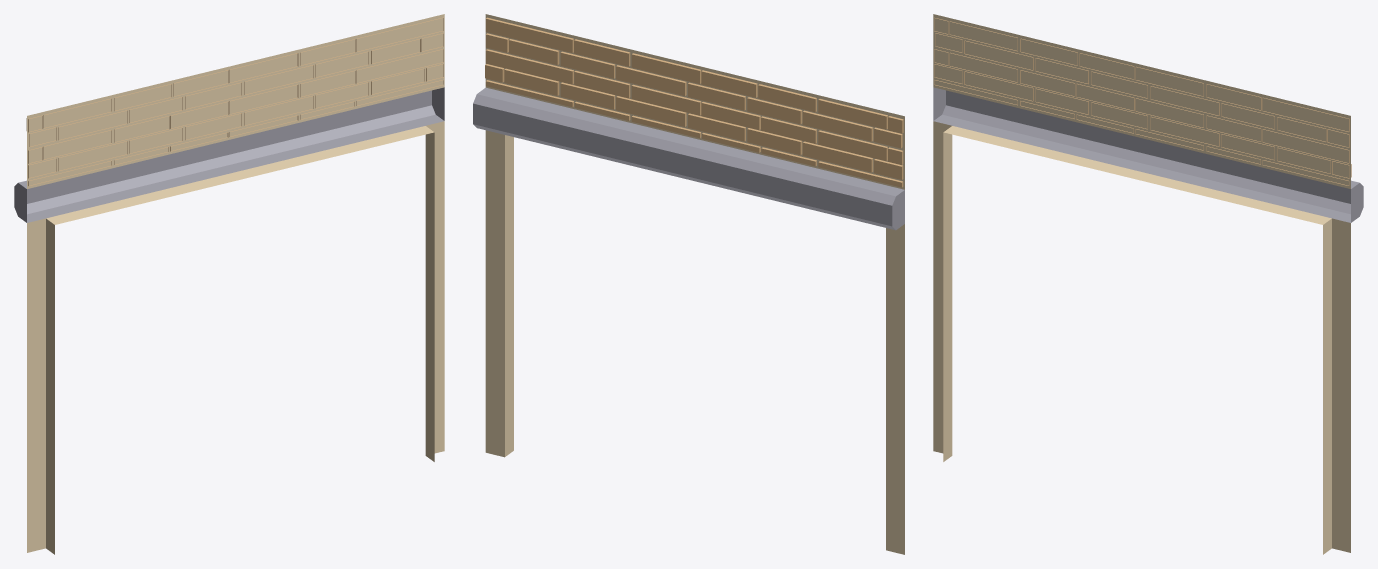
Rendered from BaksteenBergingsDeurframe01_LOD0.fbx.
3 renders of one model, left to right at view 1: azimuth 30°, elevation 25°; view 2: azimuth 150°, elevation 25°; view 3: azimuth 330°, elevation 25°, orthographic.
Parts seen in each view (by area): view 1: BaksteenBergingsDeurframe01_LOD0; view 2: BaksteenBergingsDeurframe01_LOD0; view 3: BaksteenBergingsDeurframe01_LOD0.
Part boxes in pixels (x1,y1,x2,y2): BaksteenBergingsDeurframe01_LOD0: (14, 14, 444, 554); BaksteenBergingsDeurframe01_LOD0: (473, 14, 904, 554); BaksteenBergingsDeurframe01_LOD0: (933, 14, 1363, 554).
Bounding box in the file's own units: 4 × 4 × 0.3589.
